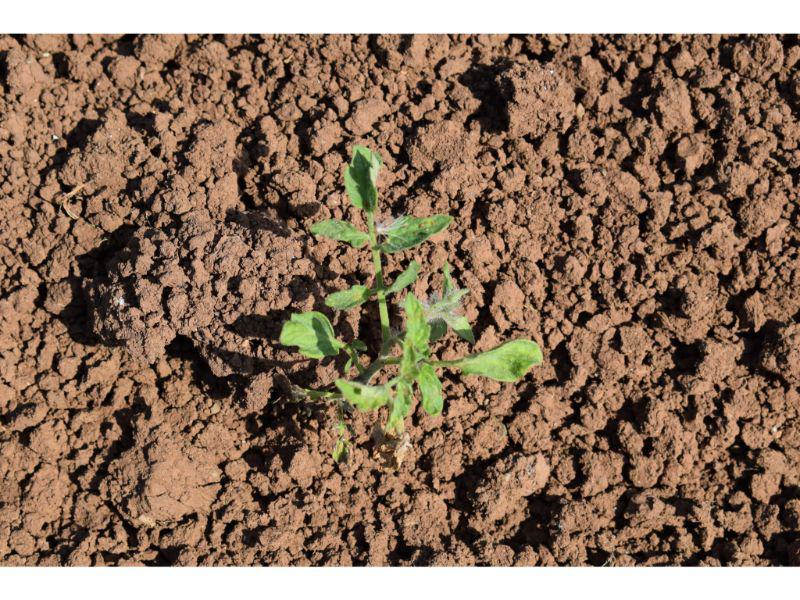tomato: (280, 144, 542, 432)
